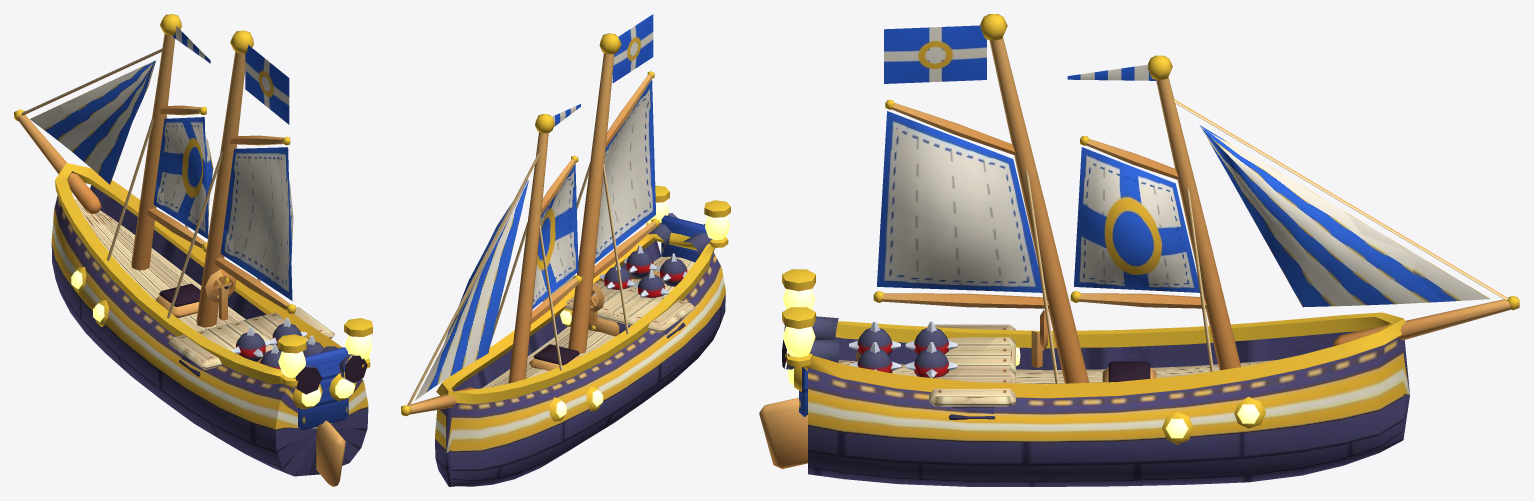
Rendered from enemy_runner.glb.
3 renders of one model, left to right at view 1: azimuth 30°, elevation 25°; view 2: azimuth 150°, elevation 25°; view 3: azimuth 270°, elevation 25°, orthographic. The views are drawn at different scales.
Parts seen in each view (by area): view 1: Hull, Rigging, Sail1_0, Jib, Sail0_0, Flag, Guns0; view 2: Hull, Rigging, Sail1_0, Jib, Sail0_0, Flag, Guns0; view 3: Hull, Rigging, Sail1_0, Jib, Sail0_0, Flag, Guns0.
Part boxes in pixels (left/top/right/bottom): Hull: left=51, top=163, right=372, bottom=486; Rigging: left=14, top=14, right=295, bottom=327; Sail1_0: left=220, top=147, right=293, bottom=300; Jib: left=30, top=60, right=155, bottom=184; Sail0_0: left=153, top=117, right=213, bottom=238; Flag: left=173, top=26, right=289, bottom=124; Guns0: left=280, top=346, right=367, bottom=394; Hull: left=435, top=185, right=730, bottom=486; Rigging: left=401, top=33, right=659, bottom=416; Sail1_0: left=594, top=80, right=655, bottom=263; Jib: left=415, top=179, right=528, bottom=400; Sail0_0: left=532, top=164, right=578, bottom=309; Flag: left=552, top=14, right=653, bottom=126; Guns0: left=648, top=213, right=715, bottom=257; Hull: left=759, top=269, right=1409, bottom=486; Rigging: left=873, top=14, right=1519, bottom=383; Sail1_0: left=877, top=111, right=1042, bottom=292; Jib: left=1199, top=125, right=1489, bottom=307; Sail0_0: left=1074, top=147, right=1199, bottom=292; Flag: left=884, top=25, right=1155, bottom=83; Guns0: left=782, top=316, right=838, bottom=369.
Size of the model in its own units: 0.8288 by 2.24 by 3.4.
8 materials, 8 textured.
